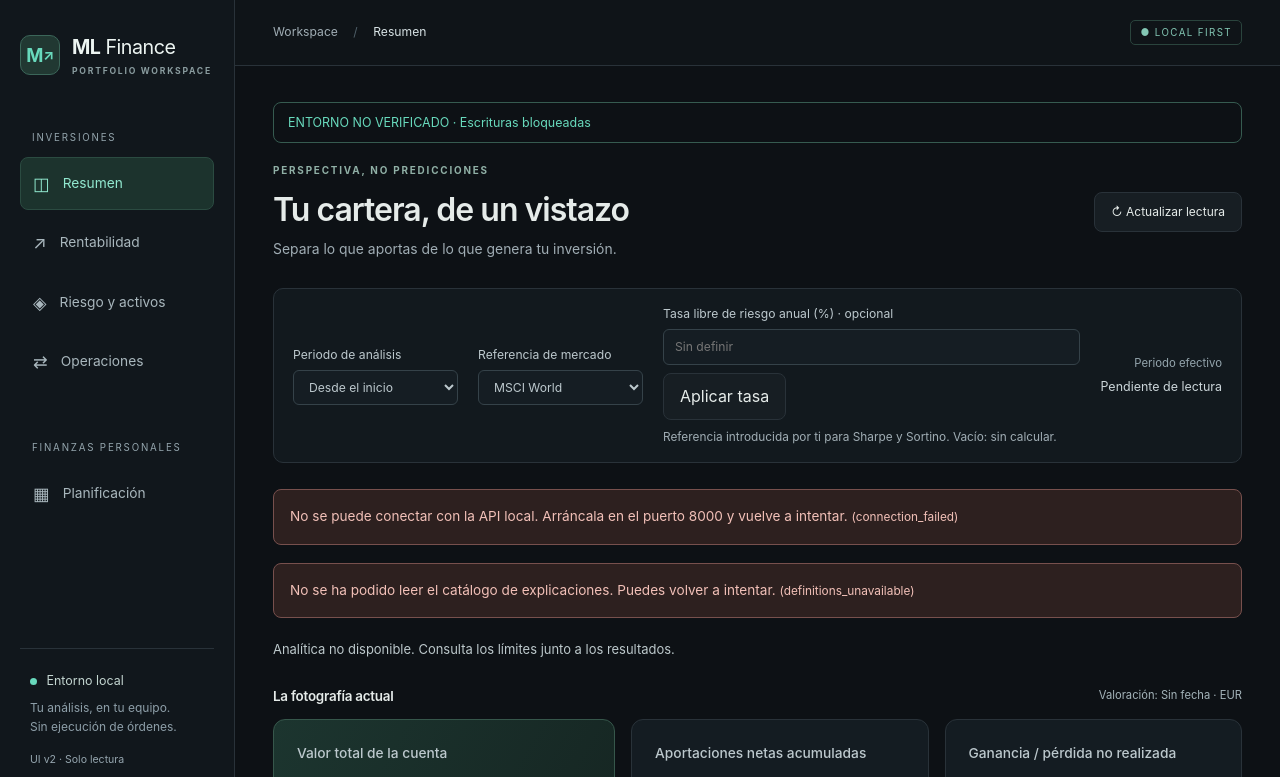
Scenario: read-only workspace › handles empty data and reconnects only when requested
The image size is (1280, 777).
Check: the heading "La fotografía actual" is shown, box top-left (273, 686), bottom-right (394, 706)
Check: the 1st message is shown, box top-left (273, 490), bottom-right (1242, 545)
Click the button "↻ Actualizar lectura" at point(1168, 212), box top-left (1094, 192), bottom-right (1242, 232)
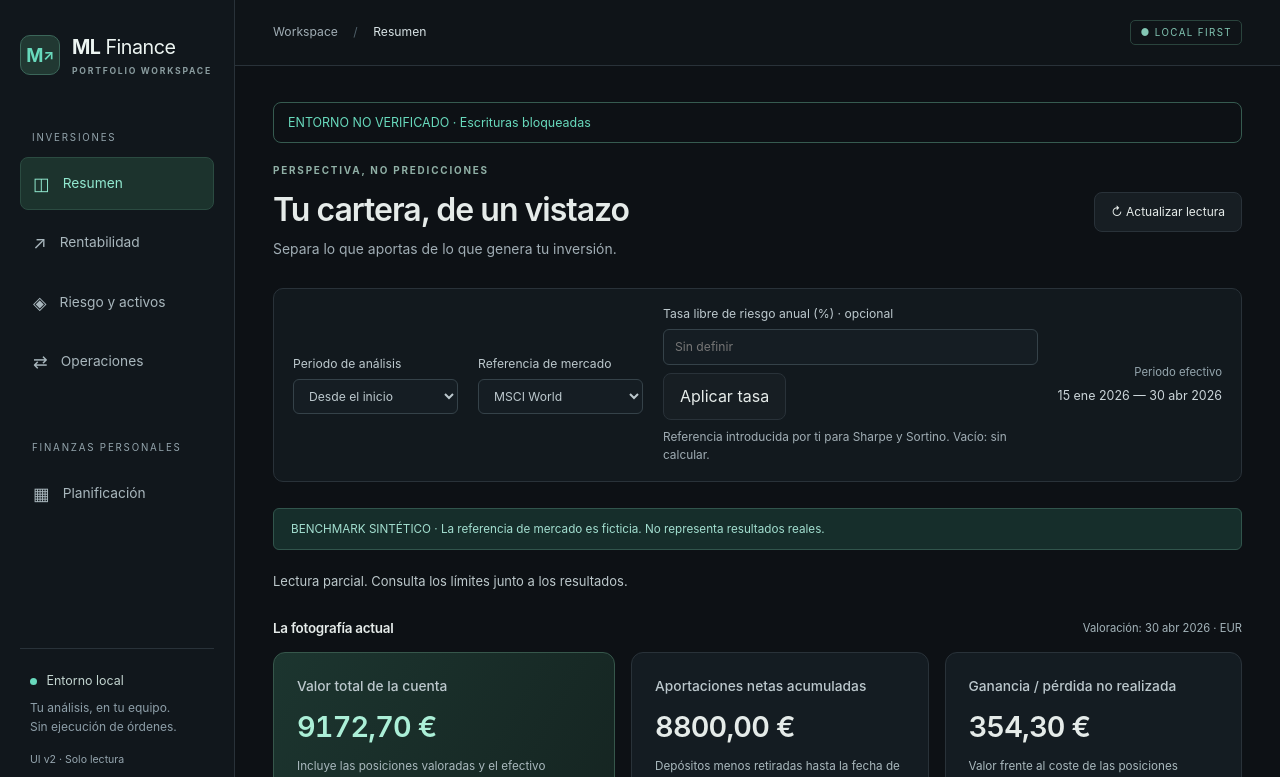
Check: the heading "La fotografía actual" is shown, box top-left (273, 618), bottom-right (394, 639)
Check: the message is gone
